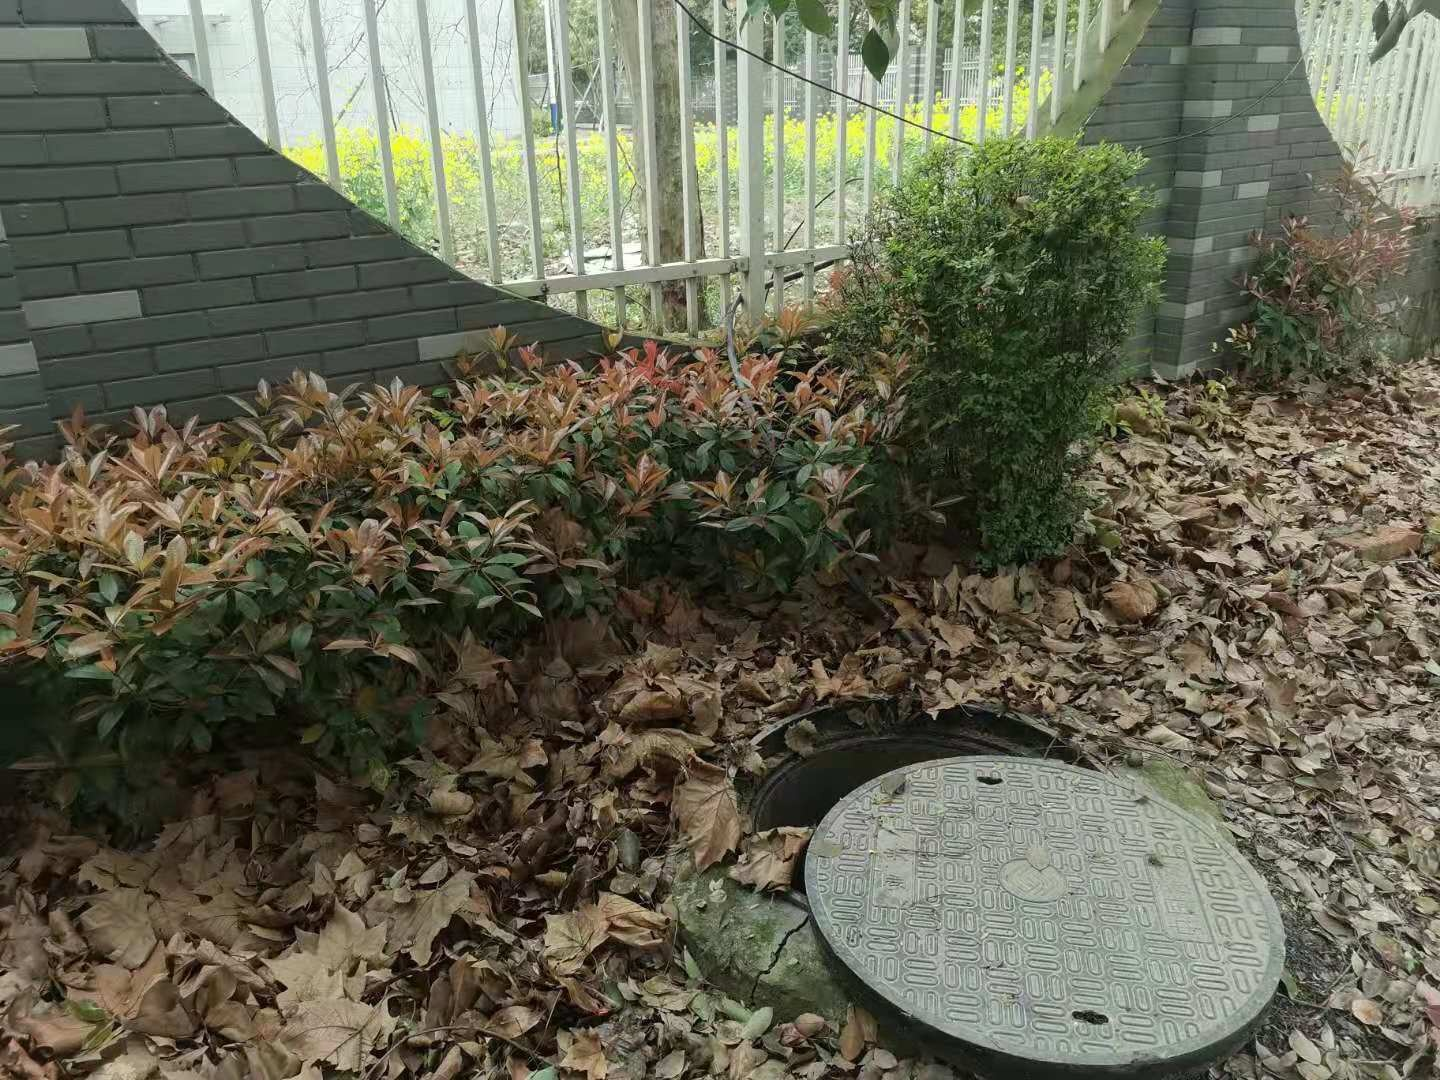uncovered: (742, 684, 1296, 1080)
